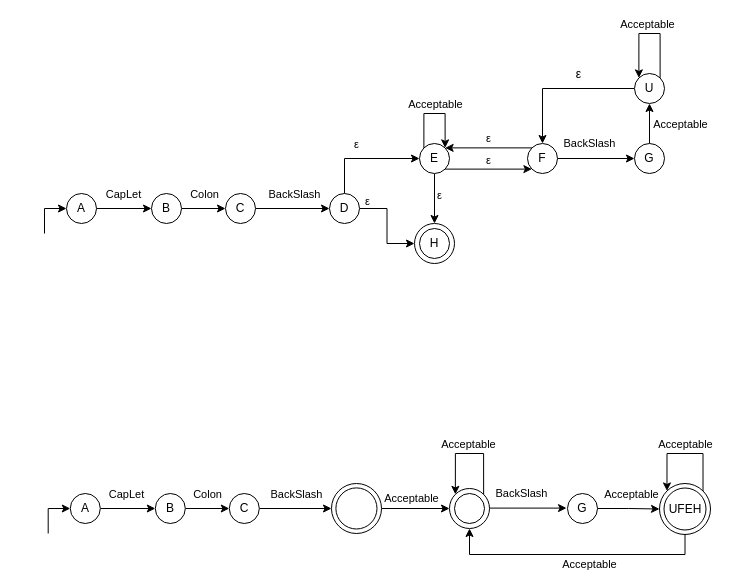
The diagram is 730 pixels wide and 587 high, and some of its shapes have lost their labels. The shapes that lost their labels are listed below. From the top down, each one's box as (x1, y1, x2, y2) in pixels, then its label:
(335, 487, 377, 529): DEFH
(448, 488, 490, 528): EF
(454, 492, 484, 524): EFH
